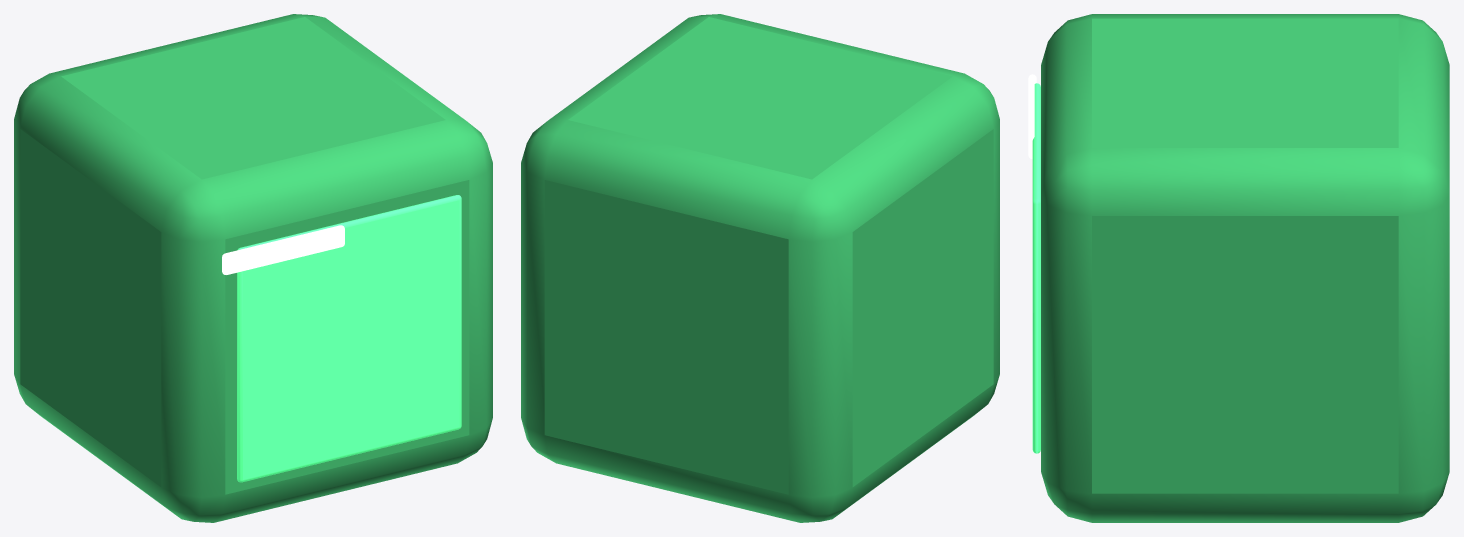
File: kostka_s.glb
3 views of the same model, side by side, from view 1: azimuth 30°, elevation 25°; view 2: azimuth 150°, elevation 25°; view 3: azimuth 270°, elevation 25° (orthographic). The views are drawn at different scales.
Parts seen in each view (by area): view 1: kostka_s_m, kostka_s_lesk, kostka_s_hrana; view 2: kostka_s_m; view 3: kostka_s_m, kostka_s_lesk, kostka_s_hrana.
Part boxes in pixels (x1=…): kostka_s_m: x1=14, y1=14, x2=492, y2=522; kostka_s_lesk: x1=237, y1=195, x2=461, y2=482; kostka_s_hrana: x1=222, y1=225, x2=344, y2=274; kostka_s_m: x1=521, y1=14, x2=999, y2=522; kostka_s_m: x1=1041, y1=14, x2=1449, y2=522; kostka_s_lesk: x1=1032, y1=83, x2=1040, y2=453; kostka_s_hrana: x1=1028, y1=74, x2=1036, y2=159.
Bounding box in the file's own units: 0.96 × 0.96 × 0.99.
